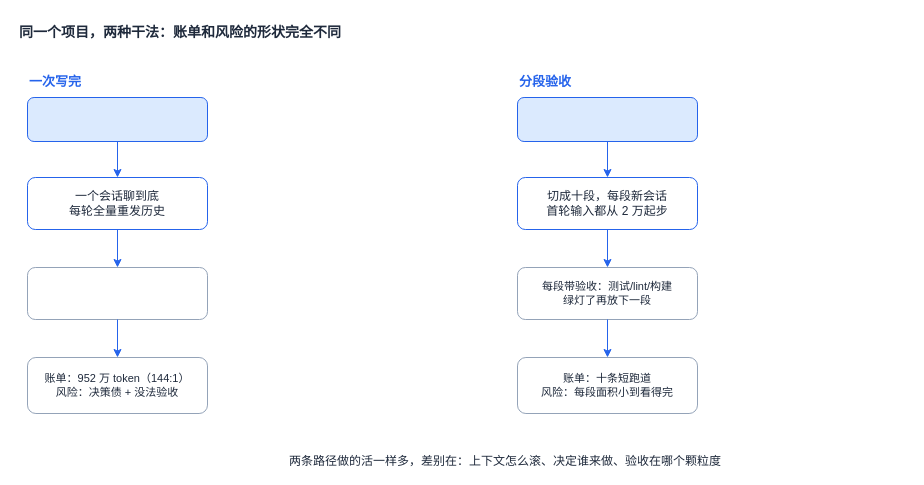
The diagram is 924 pixels wide and 485 high, and some of its shapes have lost their labels. Each missing label, with the centre of its shape:
"一句话需求扔过去" belongs at pixel 117 119.
"先出计划，确认再动手" belongs at pixel 607 119.
"末轮 22.6 万 token 没人验收得动" belongs at pixel 117 293.
